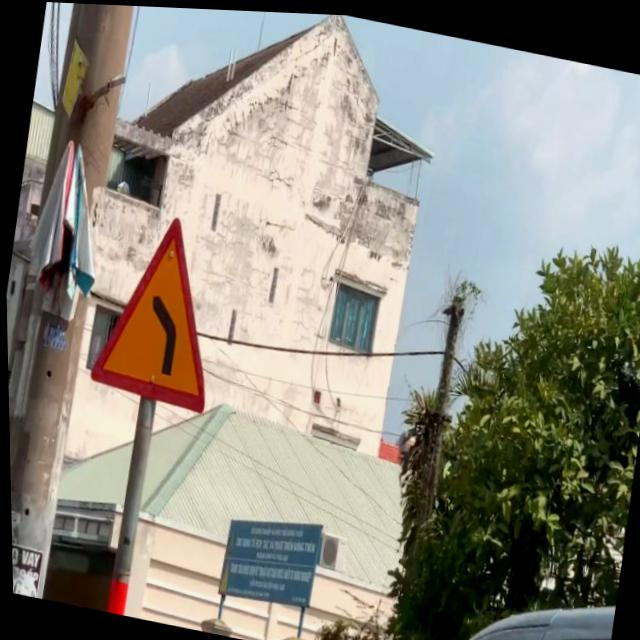cho ngoat nguy hiem vong ben trai: (70, 173, 245, 427)
